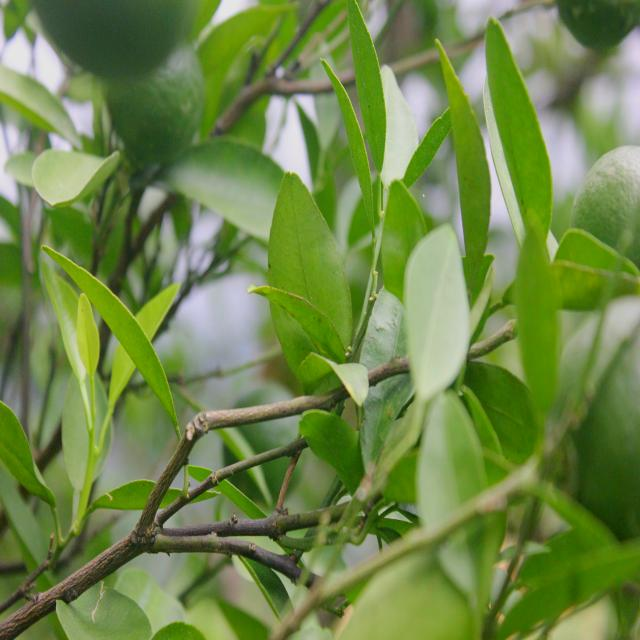blackspot: (270, 245, 336, 321), (274, 285, 335, 348), (130, 344, 155, 375), (121, 480, 149, 497)
